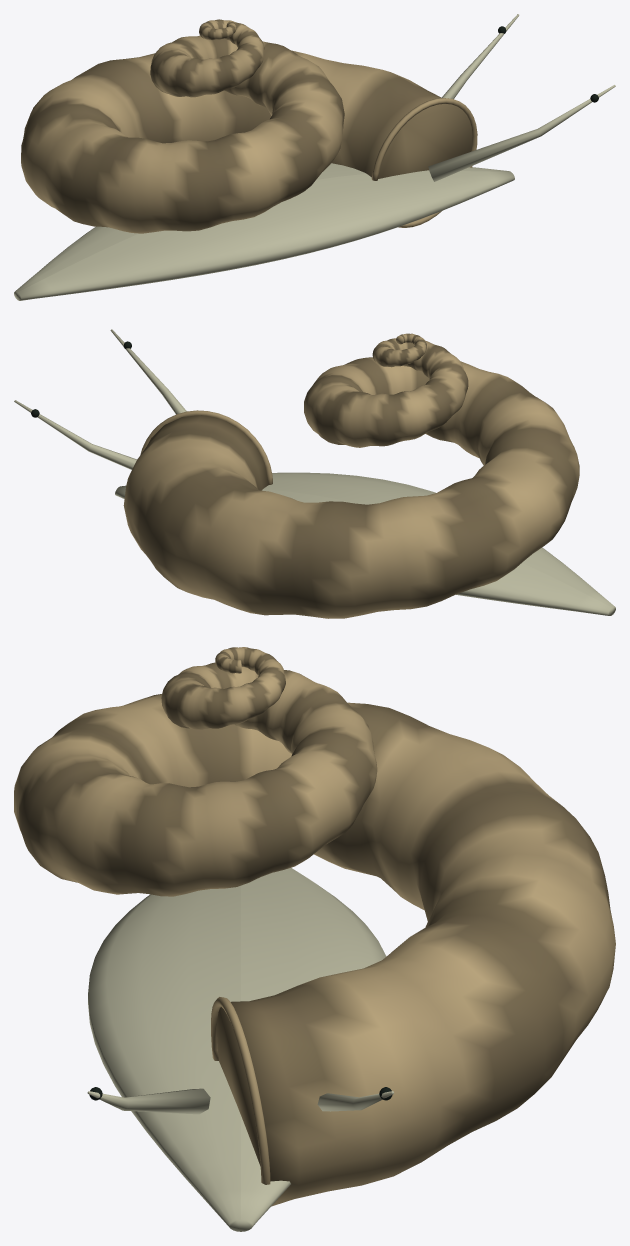
The model's file is nerite-desktop.glb.
3 views of the same model, one above another, from view 1: azimuth 30°, elevation 25°; view 2: azimuth 150°, elevation 25°; view 3: azimuth 270°, elevation 25° (orthographic). The views are drawn at different scales.
Parts seen in each view (by area): view 1: continuous-whorled-shell, muscular-foot, cephalic-tentacle, aperture-lip; view 2: continuous-whorled-shell, muscular-foot, cephalic-tentacle, aperture-lip; view 3: continuous-whorled-shell, muscular-foot, cephalic-tentacle, aperture-lip.
Boxes of the visible parts, left/top/right/bottom form: continuous-whorled-shell: left=21, top=19, right=472, bottom=233; muscular-foot: left=14, top=163, right=514, bottom=300; cephalic-tentacle: left=428, top=14, right=615, bottom=181; aperture-lip: left=371, top=98, right=477, bottom=227; continuous-whorled-shell: left=123, top=333, right=579, bottom=618; muscular-foot: left=115, top=472, right=615, bottom=615; cephalic-tentacle: left=14, top=329, right=186, bottom=469; aperture-lip: left=140, top=410, right=272, bottom=485; continuous-whorled-shell: left=14, top=647, right=615, bottom=1206; muscular-foot: left=88, top=868, right=386, bottom=1231; cephalic-tentacle: left=87, top=1088, right=394, bottom=1114; aperture-lip: left=211, top=997, right=270, bottom=1184.
Size of the model in its own units: 0.5905 by 0.2597 by 0.3569.
